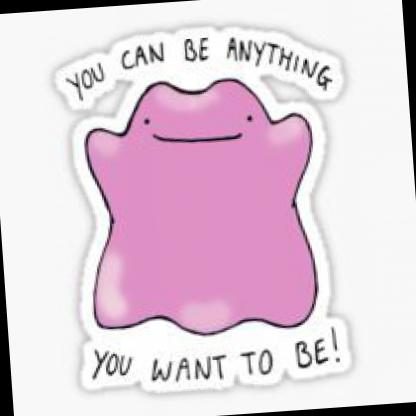Ditto: (1, 1, 416, 413)
